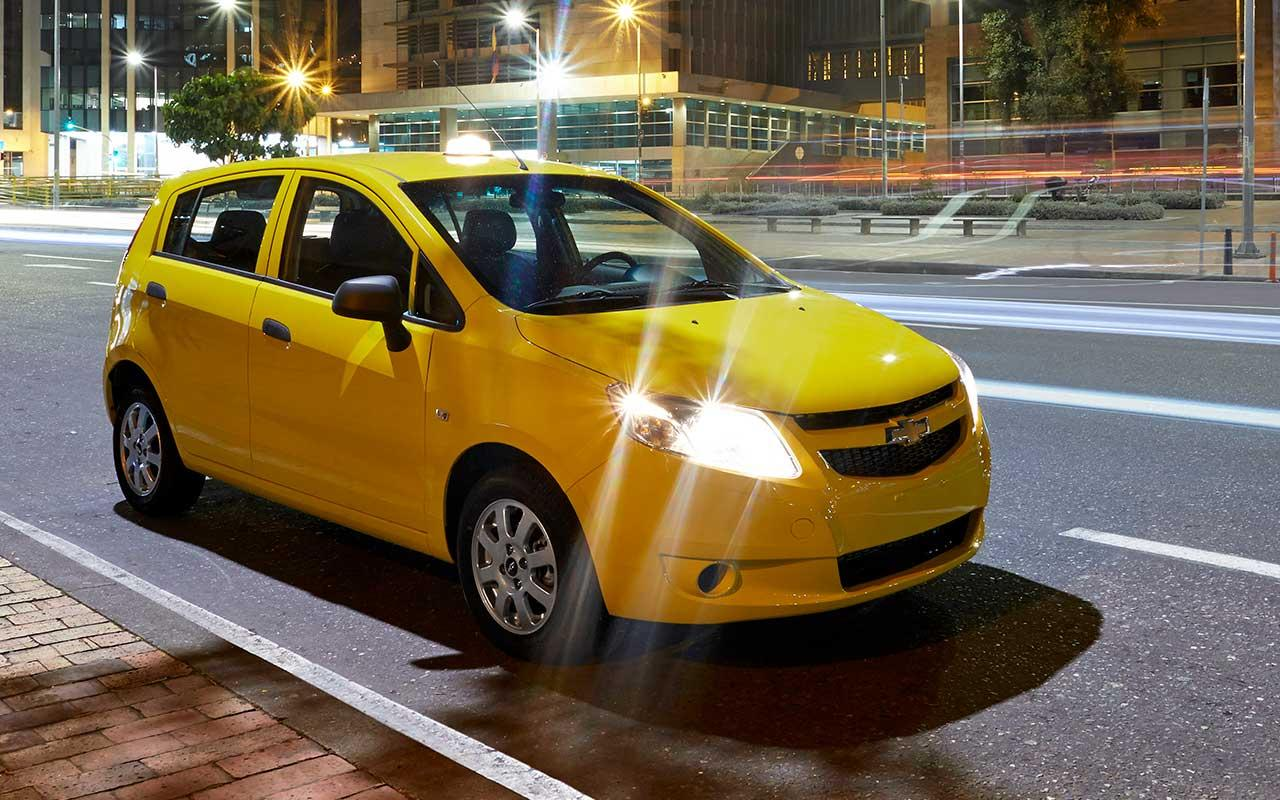taxi: (108, 135, 1021, 674)
